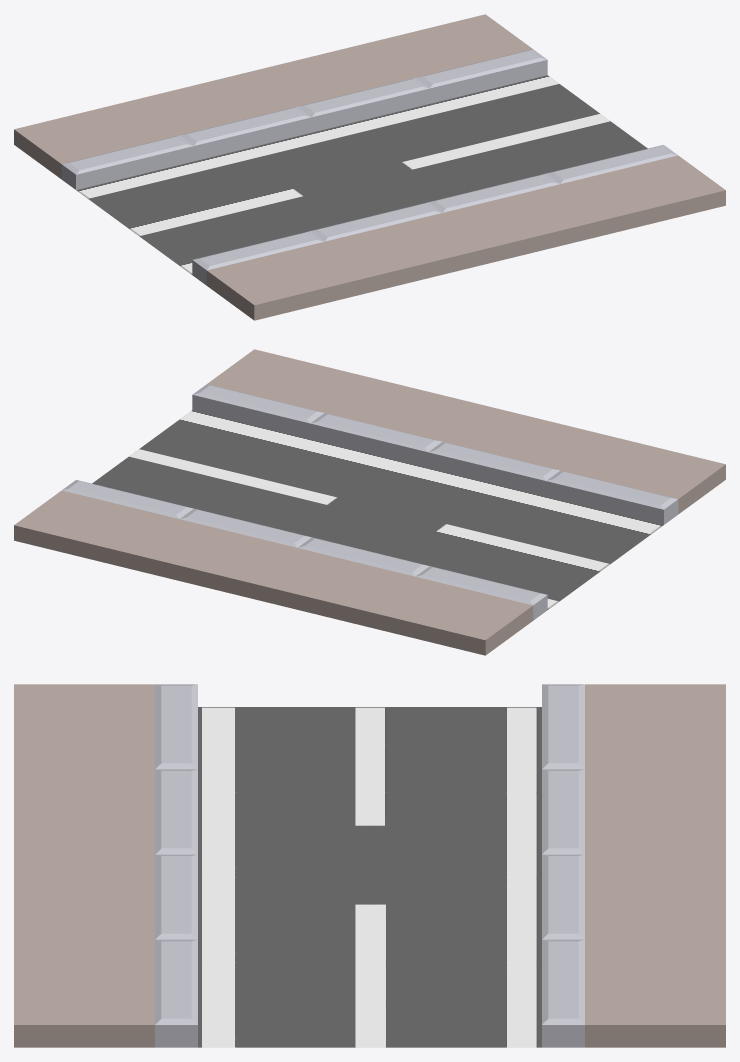
Rendered from Road.fbx.
The picture shows the model from 3 angles, top to bottom: view 1: azimuth 30°, elevation 25°; view 2: azimuth 150°, elevation 25°; view 3: azimuth 270°, elevation 25°; orthographic projection. The views are drawn at different scales.
Visible parts, largest first — view 1: Plane; view 2: Plane; view 3: Plane.
Boxes of the visible parts, x1,y1,x2,y2 form: Plane: [14, 14, 725, 320]; Plane: [14, 349, 725, 655]; Plane: [14, 684, 725, 1047].
Bounding box in the file's own units: 287 × 9.88 × 253.
